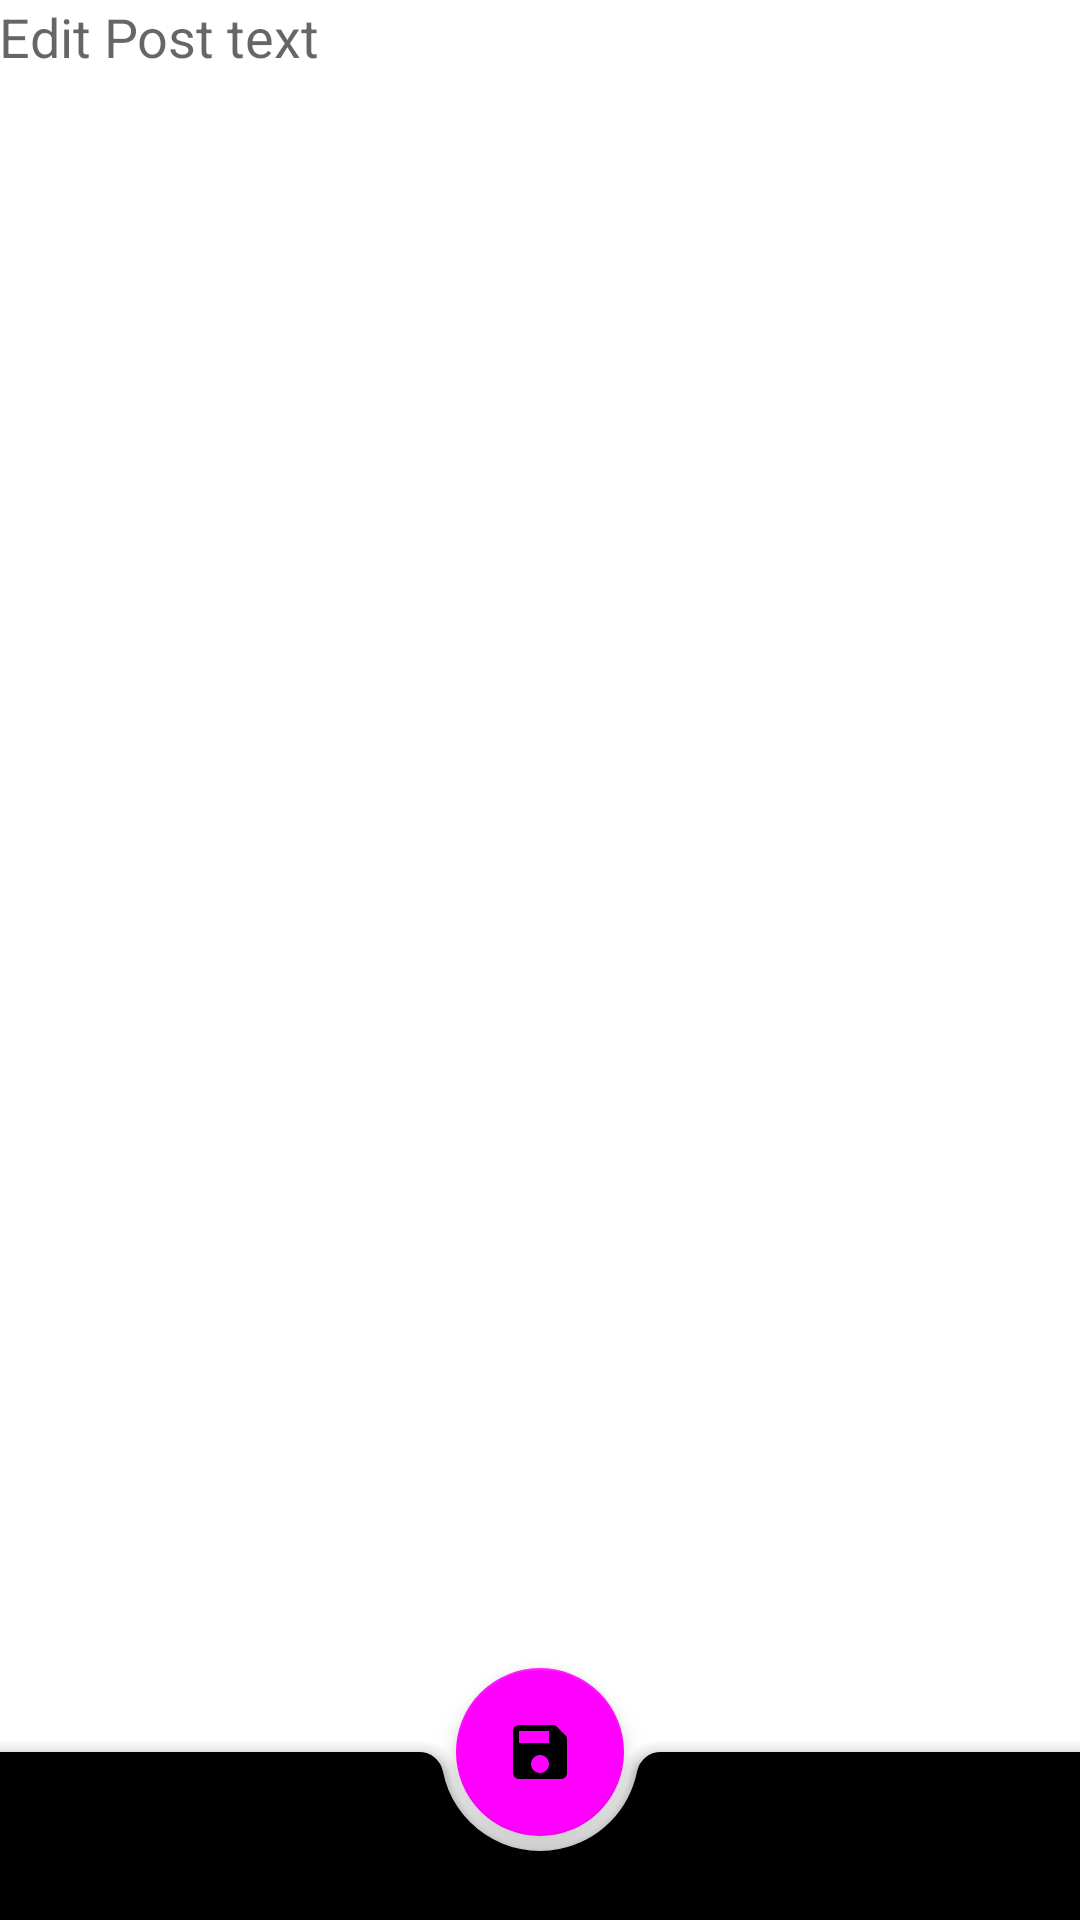

Named icons in this screenshot (1080×1920) and their centers, (x=x, y=y):
save: (x=540, y=1752)
